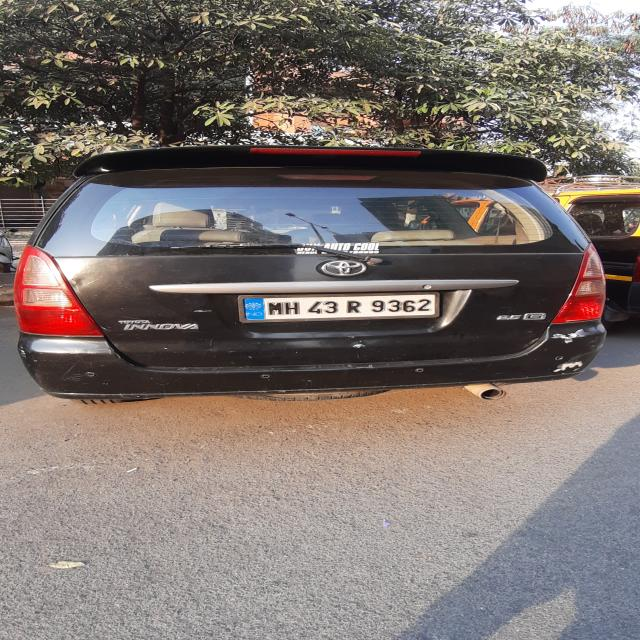Number-Plate: (244, 298, 436, 318)
